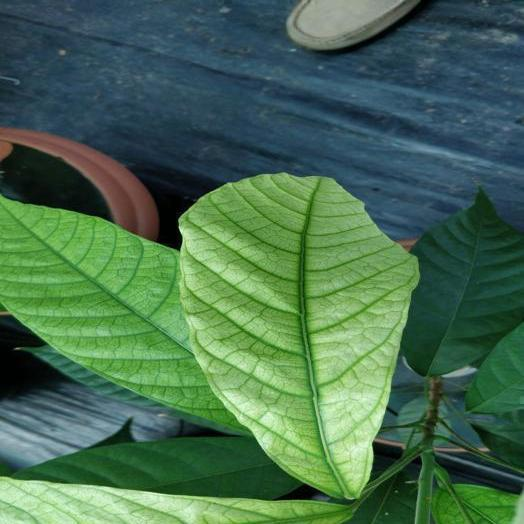Healthy Leaf: (402, 189, 523, 375), (12, 437, 299, 499), (466, 323, 523, 413)
Iron: (180, 174, 417, 497), (0, 196, 246, 428), (0, 477, 350, 523), (428, 483, 523, 523)
